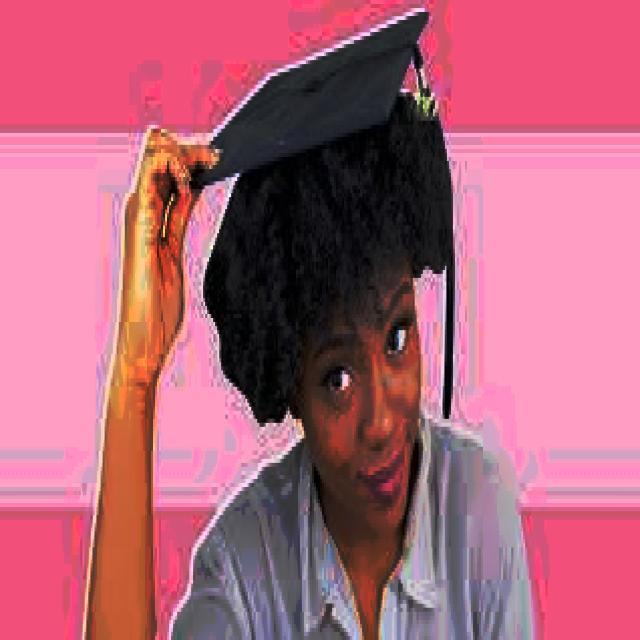TOPI: (167, 0, 433, 197)
